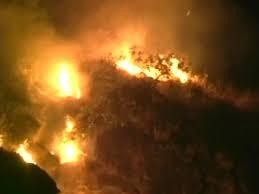fire: (113, 38, 205, 83), (46, 57, 82, 98), (54, 118, 85, 163), (11, 136, 36, 163)
